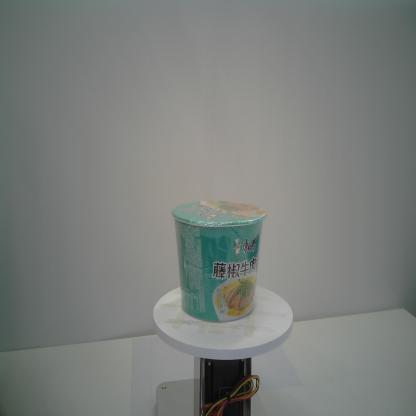Instant Noodles: (171, 198, 267, 324)
